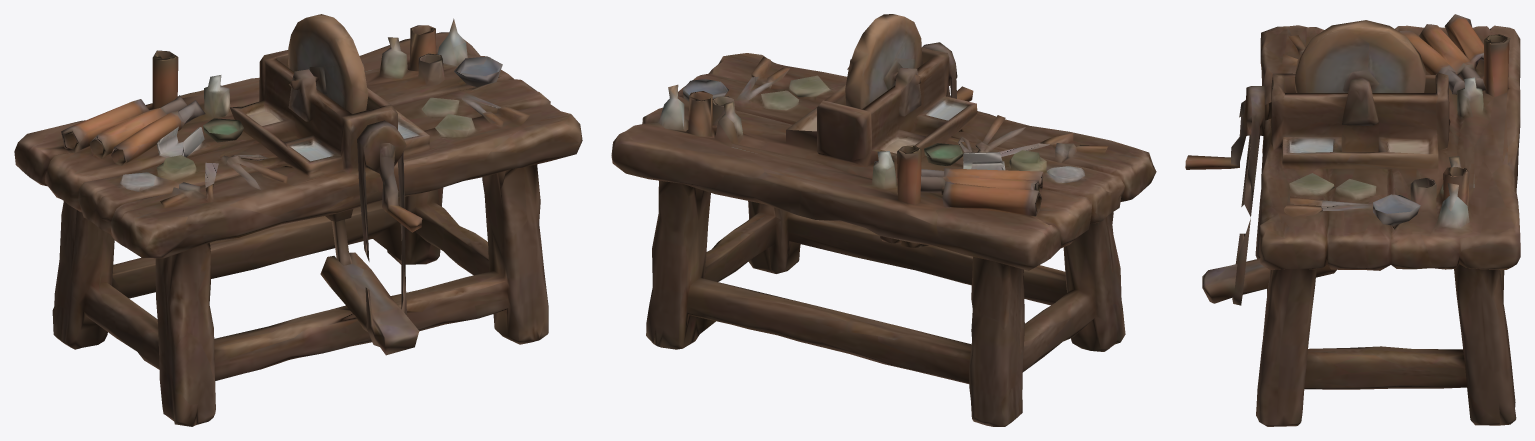
File: lens_workbench.glb
The picture shows the model from 3 angles, left to right: view 1: azimuth 30°, elevation 25°; view 2: azimuth 150°, elevation 25°; view 3: azimuth 270°, elevation 25°; orthographic projection. The views are drawn at different scales.
Visible parts, largest first — view 1: tripo_node_39cdd9b7-3ab8-4c75-8440-530ad8ff3ddd; view 2: tripo_node_39cdd9b7-3ab8-4c75-8440-530ad8ff3ddd; view 3: tripo_node_39cdd9b7-3ab8-4c75-8440-530ad8ff3ddd.
Boxes of the visible parts, x1,y1,x2,y2 form: tripo_node_39cdd9b7-3ab8-4c75-8440-530ad8ff3ddd: [14, 14, 582, 426]; tripo_node_39cdd9b7-3ab8-4c75-8440-530ad8ff3ddd: [611, 14, 1156, 426]; tripo_node_39cdd9b7-3ab8-4c75-8440-530ad8ff3ddd: [1185, 14, 1520, 426].
Bounding box in the file's own units: 0.9822 × 0.683 × 0.6455.
1 material, 1 textured.
